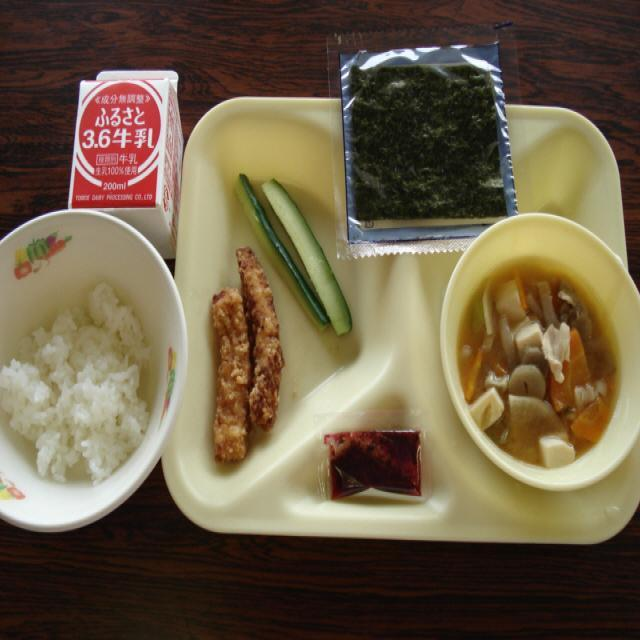Rice: (3, 287, 146, 482)
